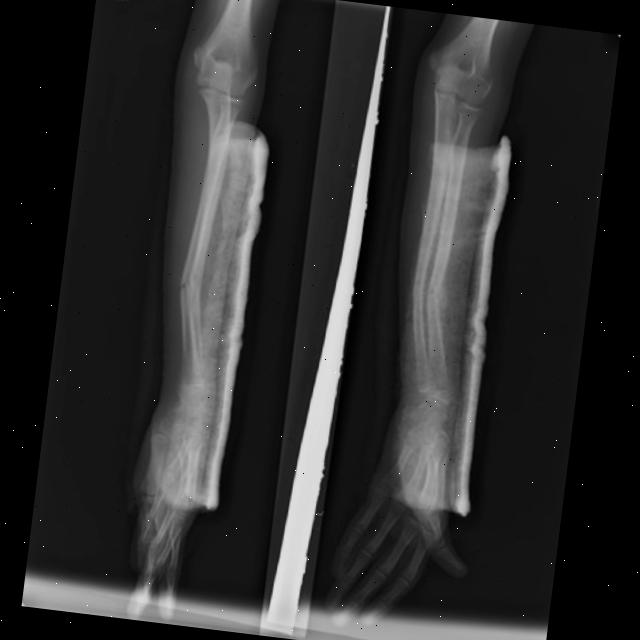fractured: (173, 274, 201, 298), (425, 279, 442, 302), (410, 274, 425, 295)
